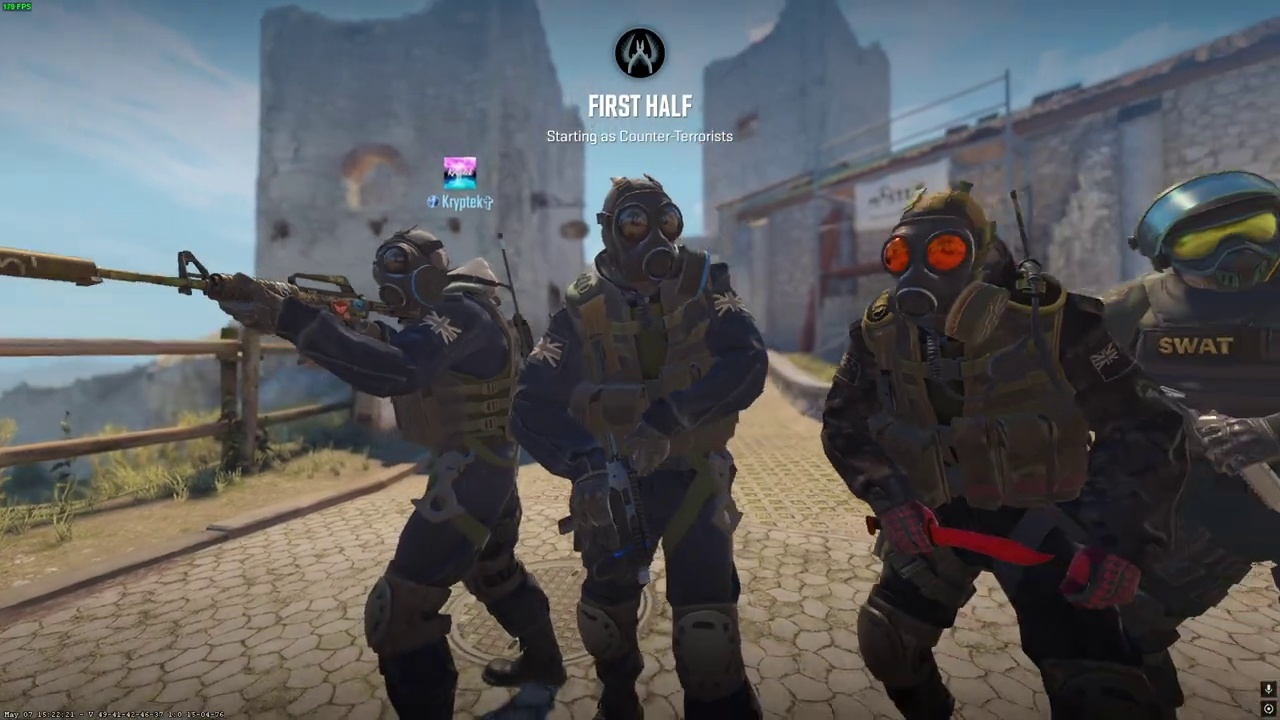CT: (825, 186, 1086, 720), (529, 173, 771, 720), (298, 228, 521, 720), (1100, 170, 1280, 720)
